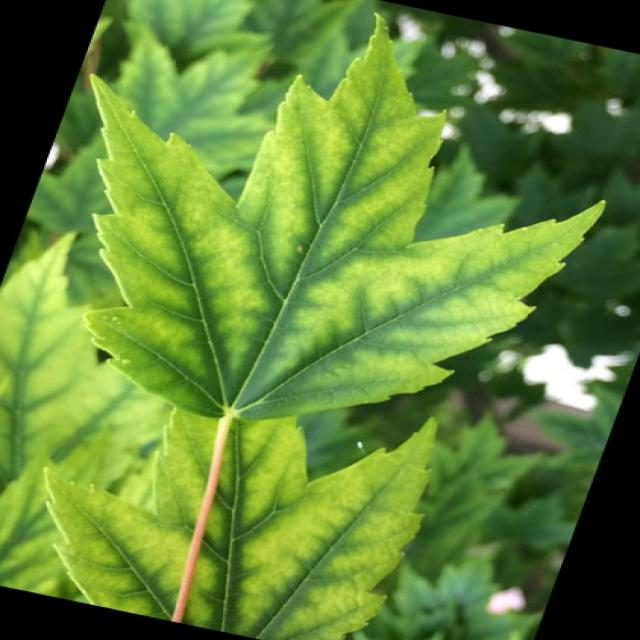Chlorosis: (22, 15, 616, 640)
